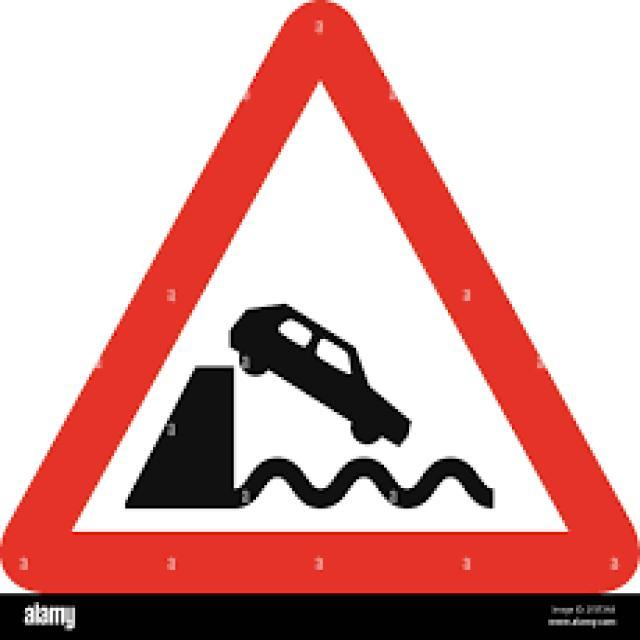quay side or river bank: (23, 17, 620, 582)
